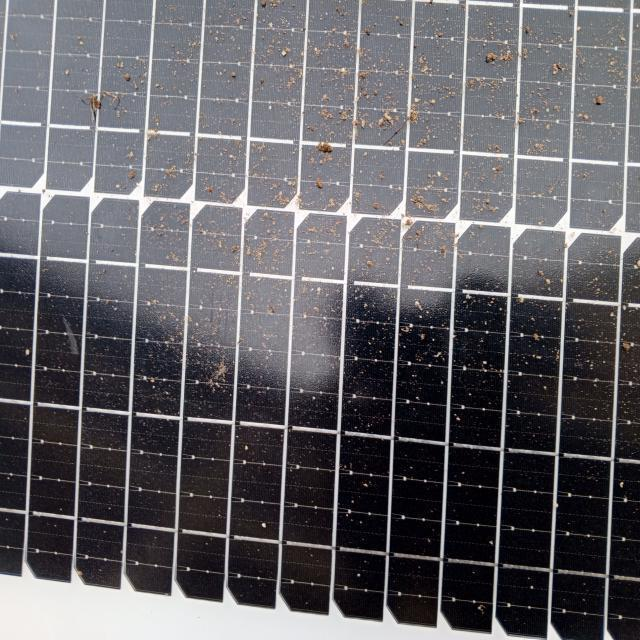Anomaly Solar Panel: (2, 2, 632, 637)
Surface Contaminant: (5, 5, 636, 278), (14, 323, 627, 593)
